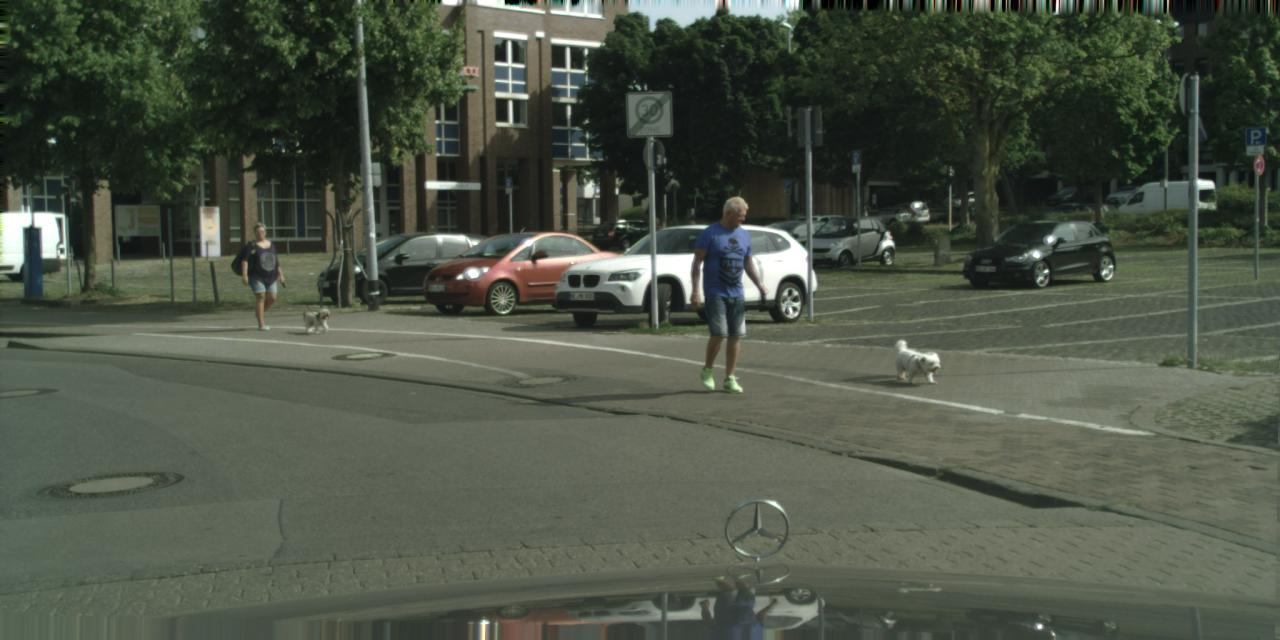ped: (688, 195, 767, 387), (238, 222, 280, 326), (644, 218, 666, 273), (681, 218, 702, 270), (860, 204, 868, 224)
